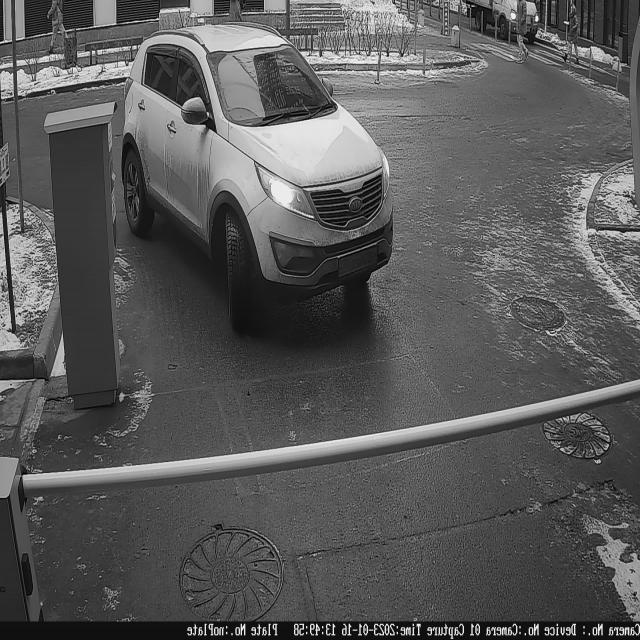car-plate-numbers: (337, 240, 382, 283)
